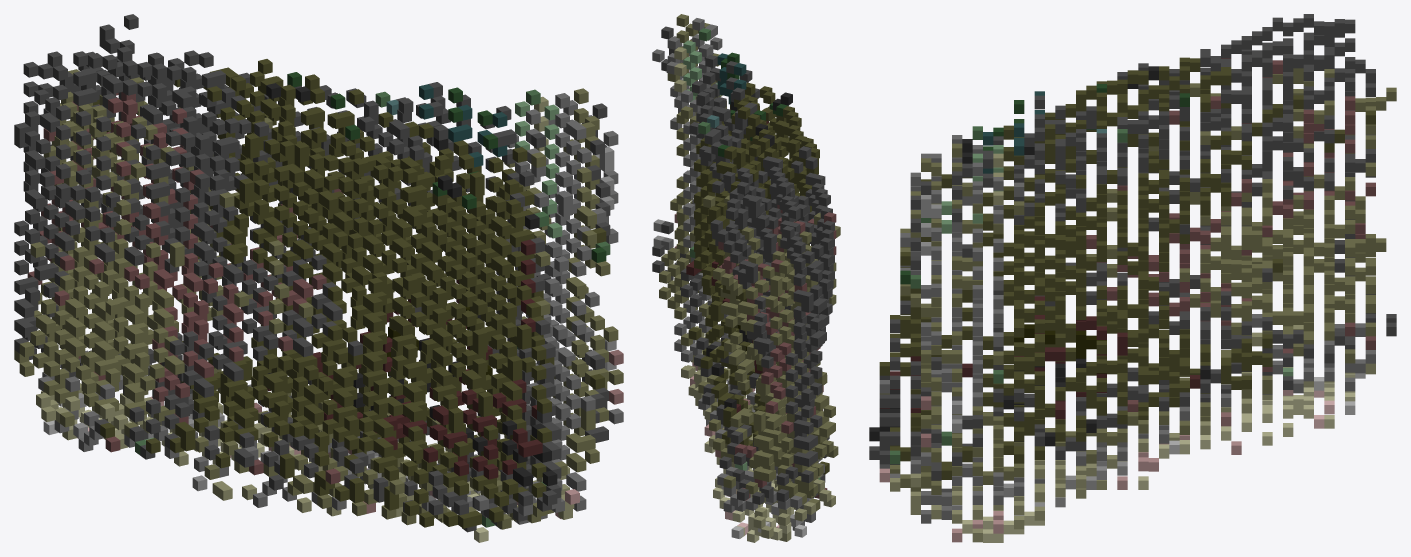
File: object_008_voxel.obj
3 views of the same model, side by side, from view 1: azimuth 30°, elevation 25°; view 2: azimuth 150°, elevation 25°; view 3: azimuth 270°, elevation 25° (orthographic). The views are drawn at different scales.
Bounding box in the file's own units: 0.42 × 0.45 × 0.51.
